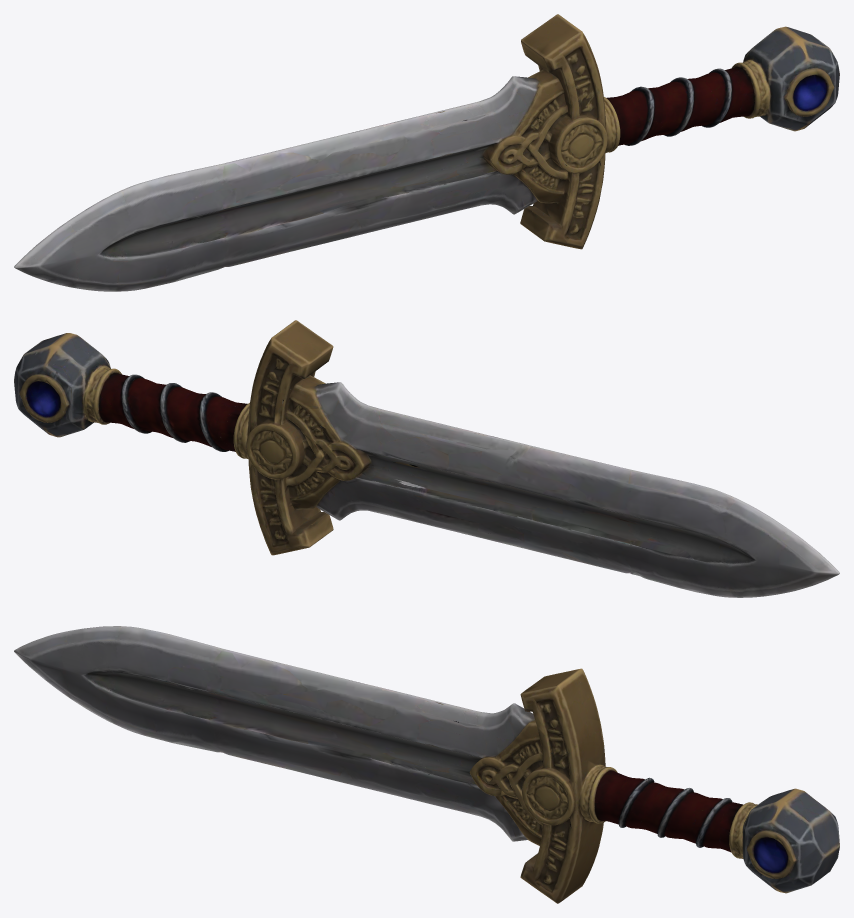
The model's file is a3D-sword-medieval.glb.
3 renders of one model, top to bottom at view 1: azimuth 30°, elevation 25°; view 2: azimuth 150°, elevation 25°; view 3: azimuth 330°, elevation 25°, orthographic.
Visible parts, largest first — view 1: geometry_0; view 2: geometry_0; view 3: geometry_0.
Boxes of the visible parts, <box> form: geometry_0: <box>14,14,839,291</box>; geometry_0: <box>14,320,839,597</box>; geometry_0: <box>14,626,839,903</box>.
Bounding box in the file's own units: 1.9 × 0.4839 × 0.1676.
1 material, 1 textured.
